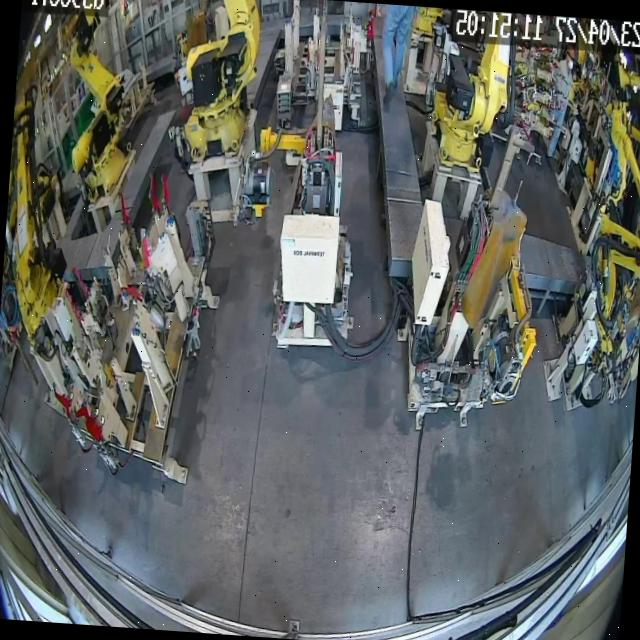Person: (370, 3, 417, 105), (542, 44, 578, 174)
